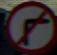Don't turn right: (5, 2, 49, 45)
